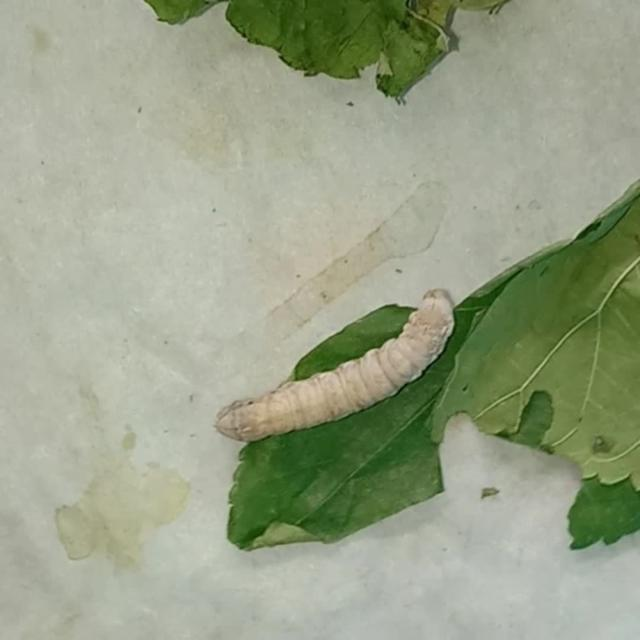Grasserie: (204, 283, 466, 468)
